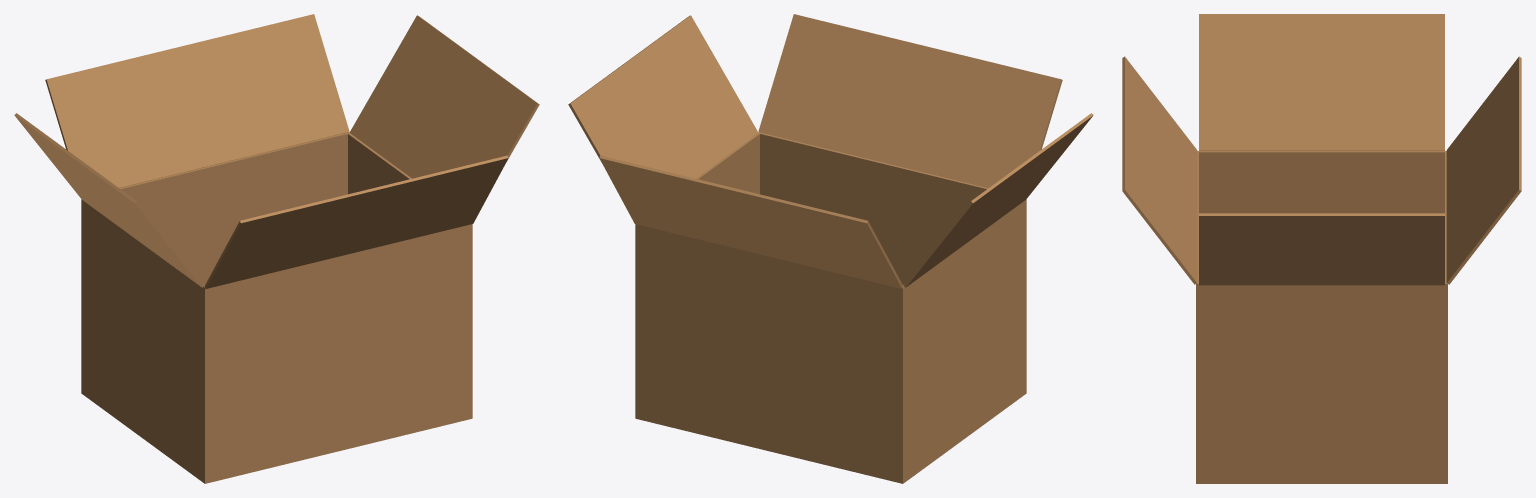
The model's file is box_cardboard_open.glb.
3 renders of one model, left to right at view 1: azimuth 30°, elevation 25°; view 2: azimuth 150°, elevation 25°; view 3: azimuth 270°, elevation 25°, orthographic.
Parts seen in each view (by area): view 1: box_cardboard_open; view 2: box_cardboard_open; view 3: box_cardboard_open.
Boxes of the visible parts, x1,y1,x2,y2 form: box_cardboard_open: (14,14,539,483); box_cardboard_open: (568,14,1093,483); box_cardboard_open: (1122,14,1521,483).
Size of the model in its own units: 0.7565 by 0.5316 by 0.6335.
